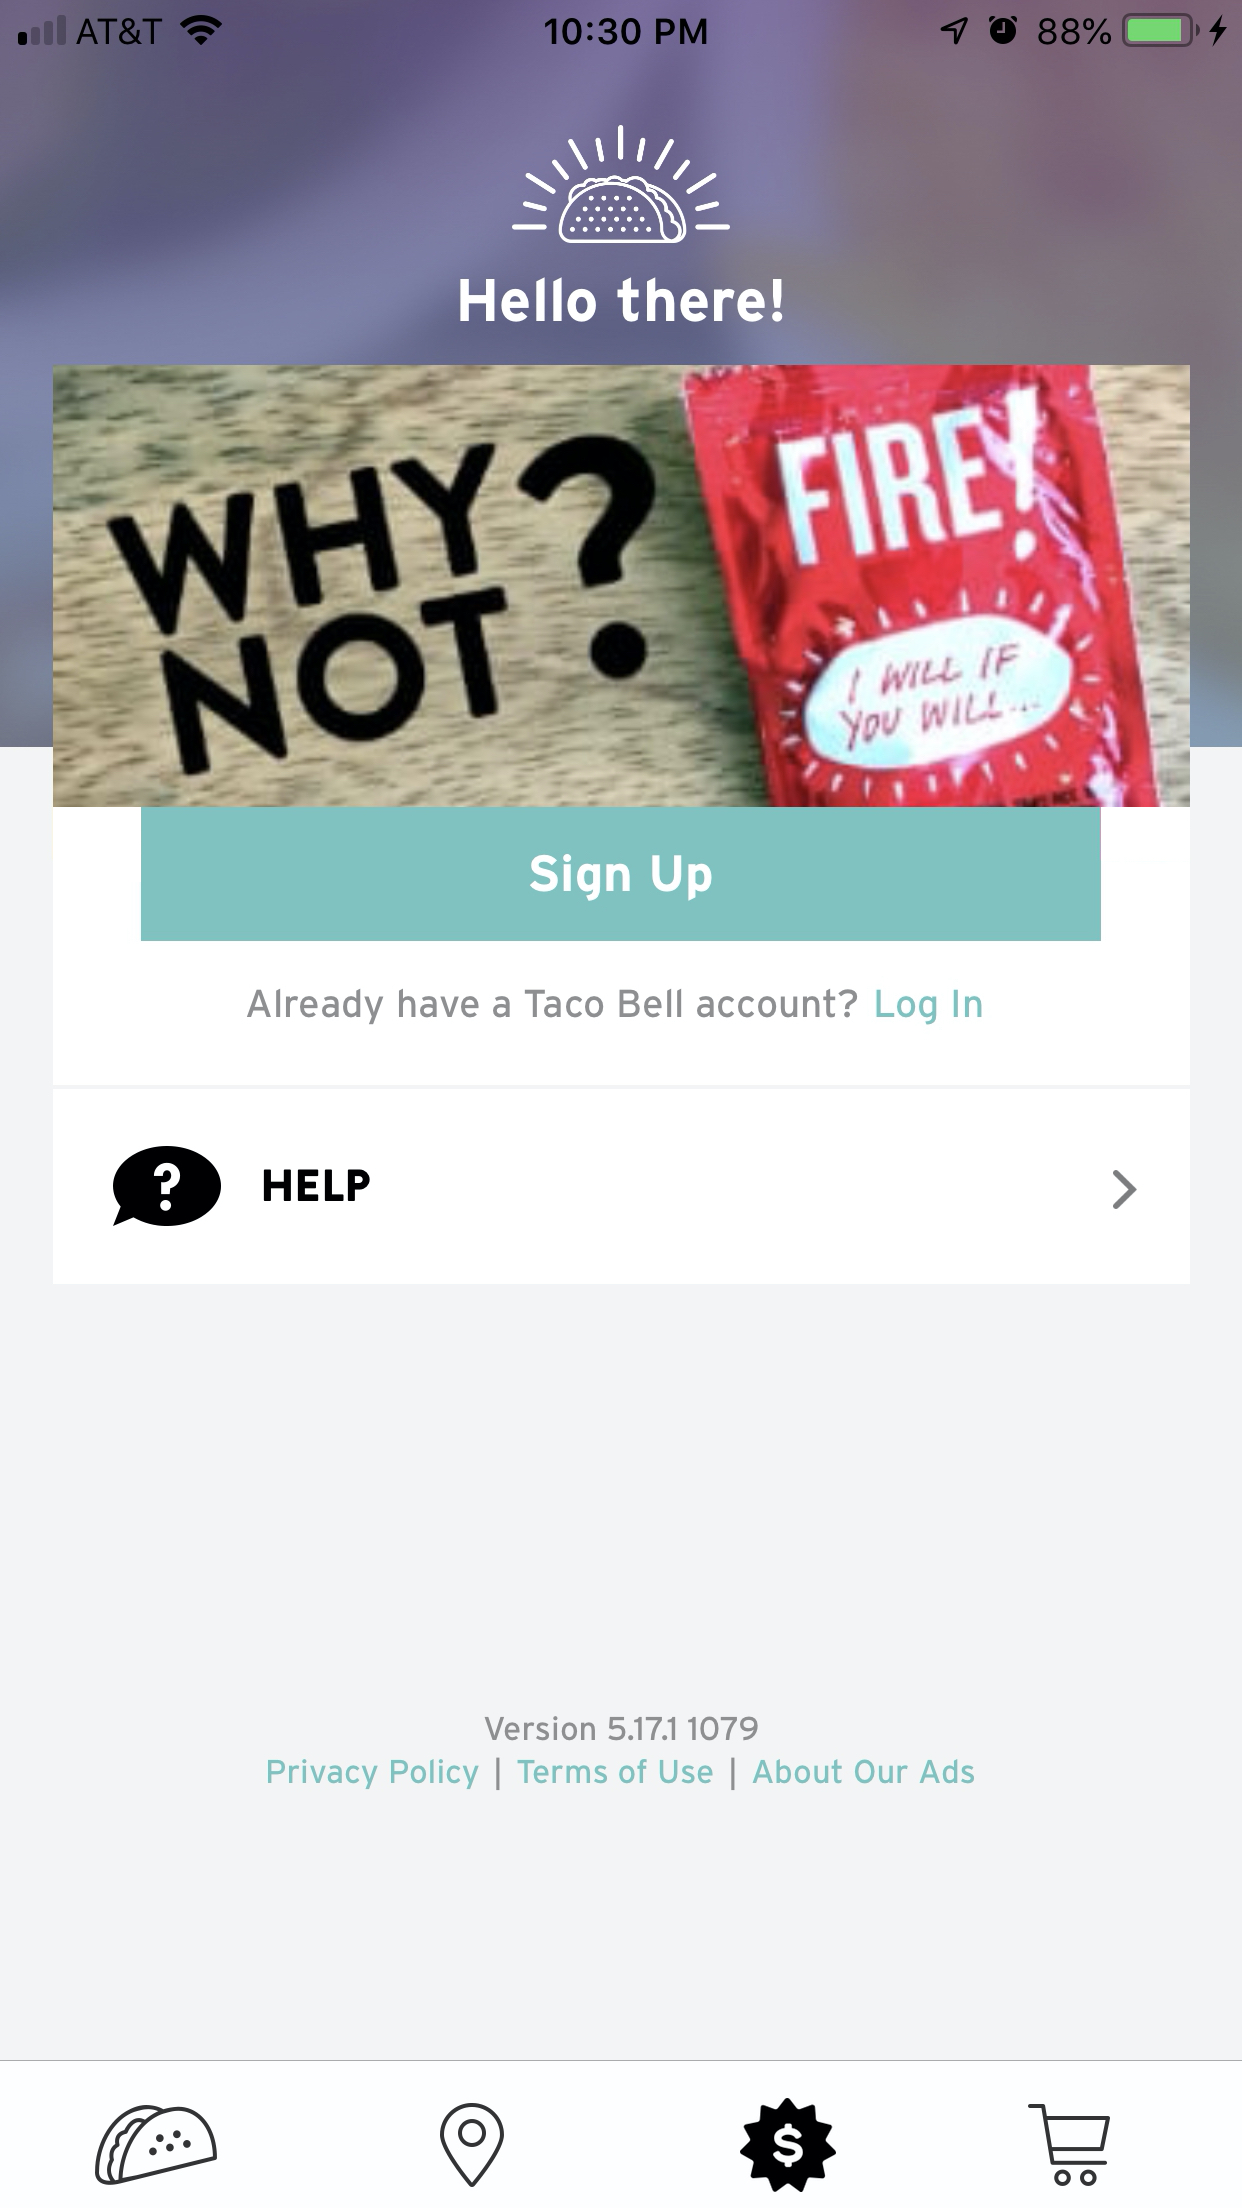Icon: (740, 2097, 839, 2193), (114, 1146, 223, 1228), (1027, 2103, 1112, 2187), (440, 2102, 507, 2188), (1112, 1171, 1137, 1210)
Image: (55, 365, 1190, 808), (513, 121, 729, 244), (94, 2103, 218, 2187)
Text: (247, 989, 983, 1027), (268, 1756, 977, 1791), (459, 278, 784, 325), (484, 1715, 760, 1742), (262, 1168, 372, 1203)
TextButton: (141, 807, 1102, 942)
UpperTaskBar: (2, 2, 1242, 49)
